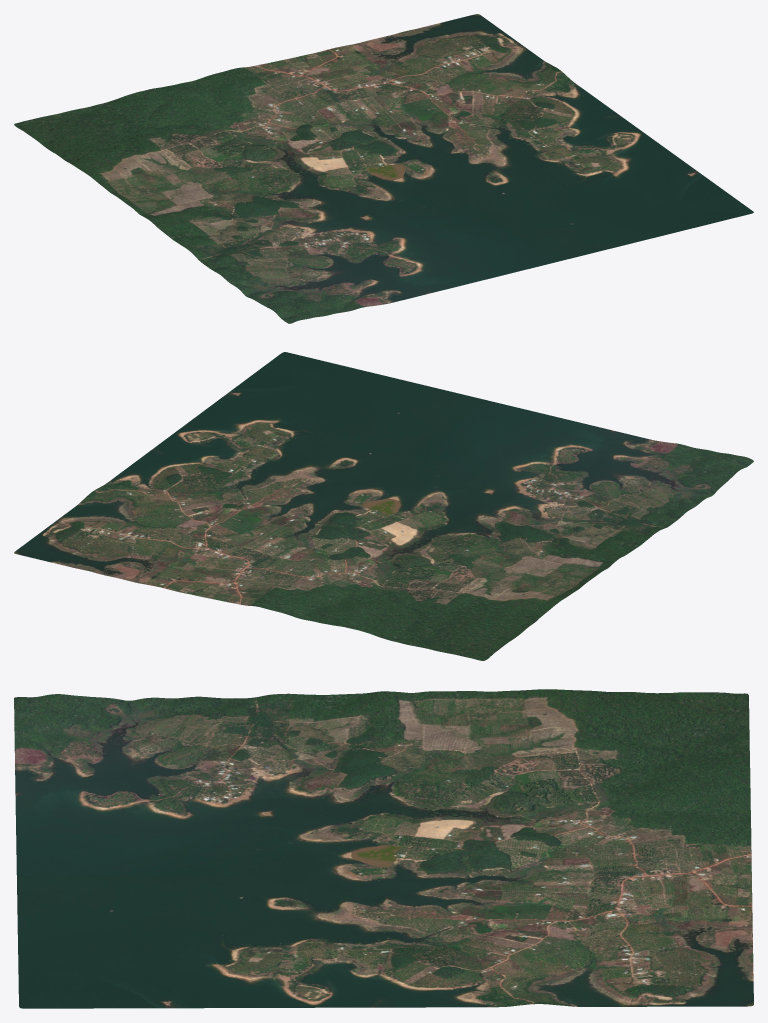
Rendered from terrain.glb.
3 renders of one model, top to bottom at view 1: azimuth 30°, elevation 25°; view 2: azimuth 150°, elevation 25°; view 3: azimuth 270°, elevation 25°, orthographic. The views are drawn at different scales.
Visible parts, largest first — view 1: DiaHinh_BoiCanh; view 2: DiaHinh_BoiCanh; view 3: DiaHinh_BoiCanh, DiaHinh_KhuDat.
Part boxes in pixels (bbox=[...]): DiaHinh_BoiCanh: bbox=[14, 14, 753, 323]; DiaHinh_BoiCanh: bbox=[14, 352, 753, 660]; DiaHinh_BoiCanh: bbox=[14, 689, 753, 1008]; DiaHinh_KhuDat: bbox=[351, 845, 402, 867].
Bounding box in the file's own units: 2934 × 51.4 × 2971.
Materials: 2 (2 with a texture image).
